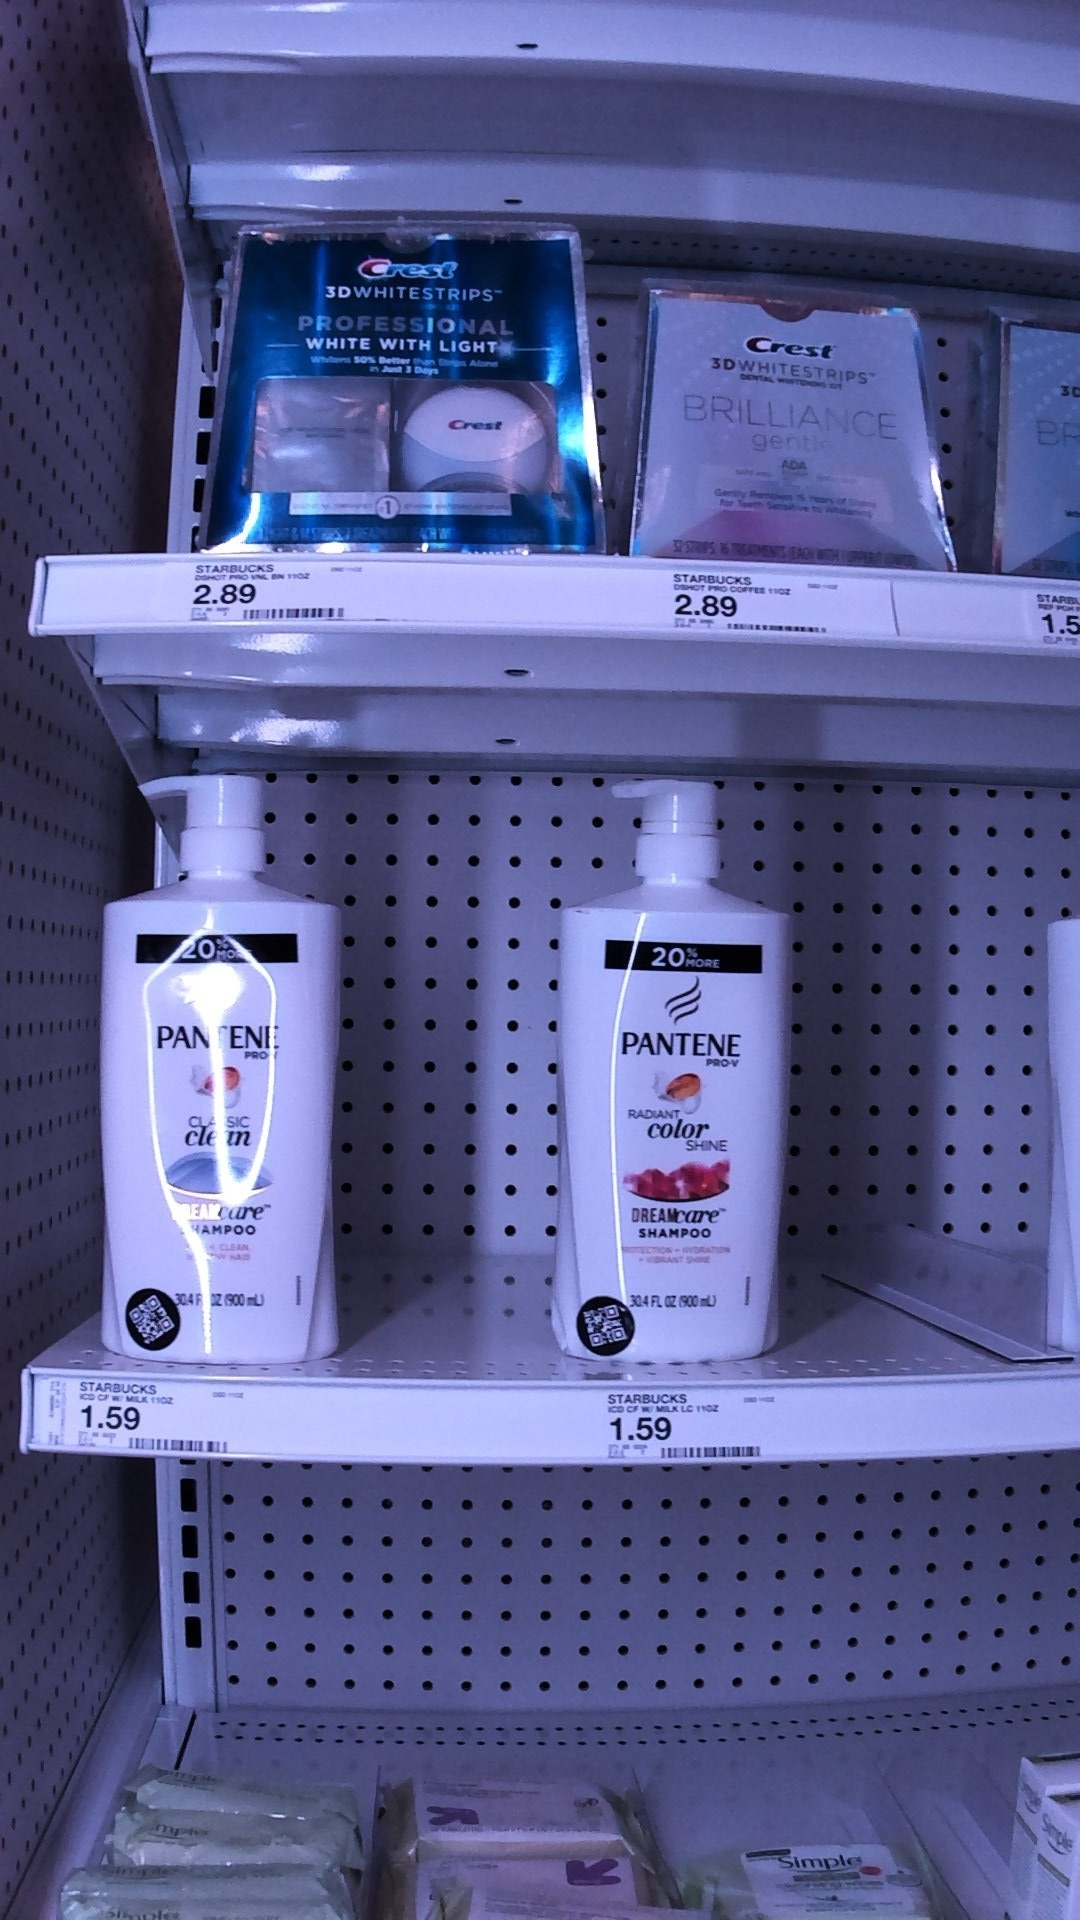ptag: (659, 564, 851, 646), (71, 1377, 251, 1462), (603, 1385, 786, 1466), (178, 555, 363, 629)
